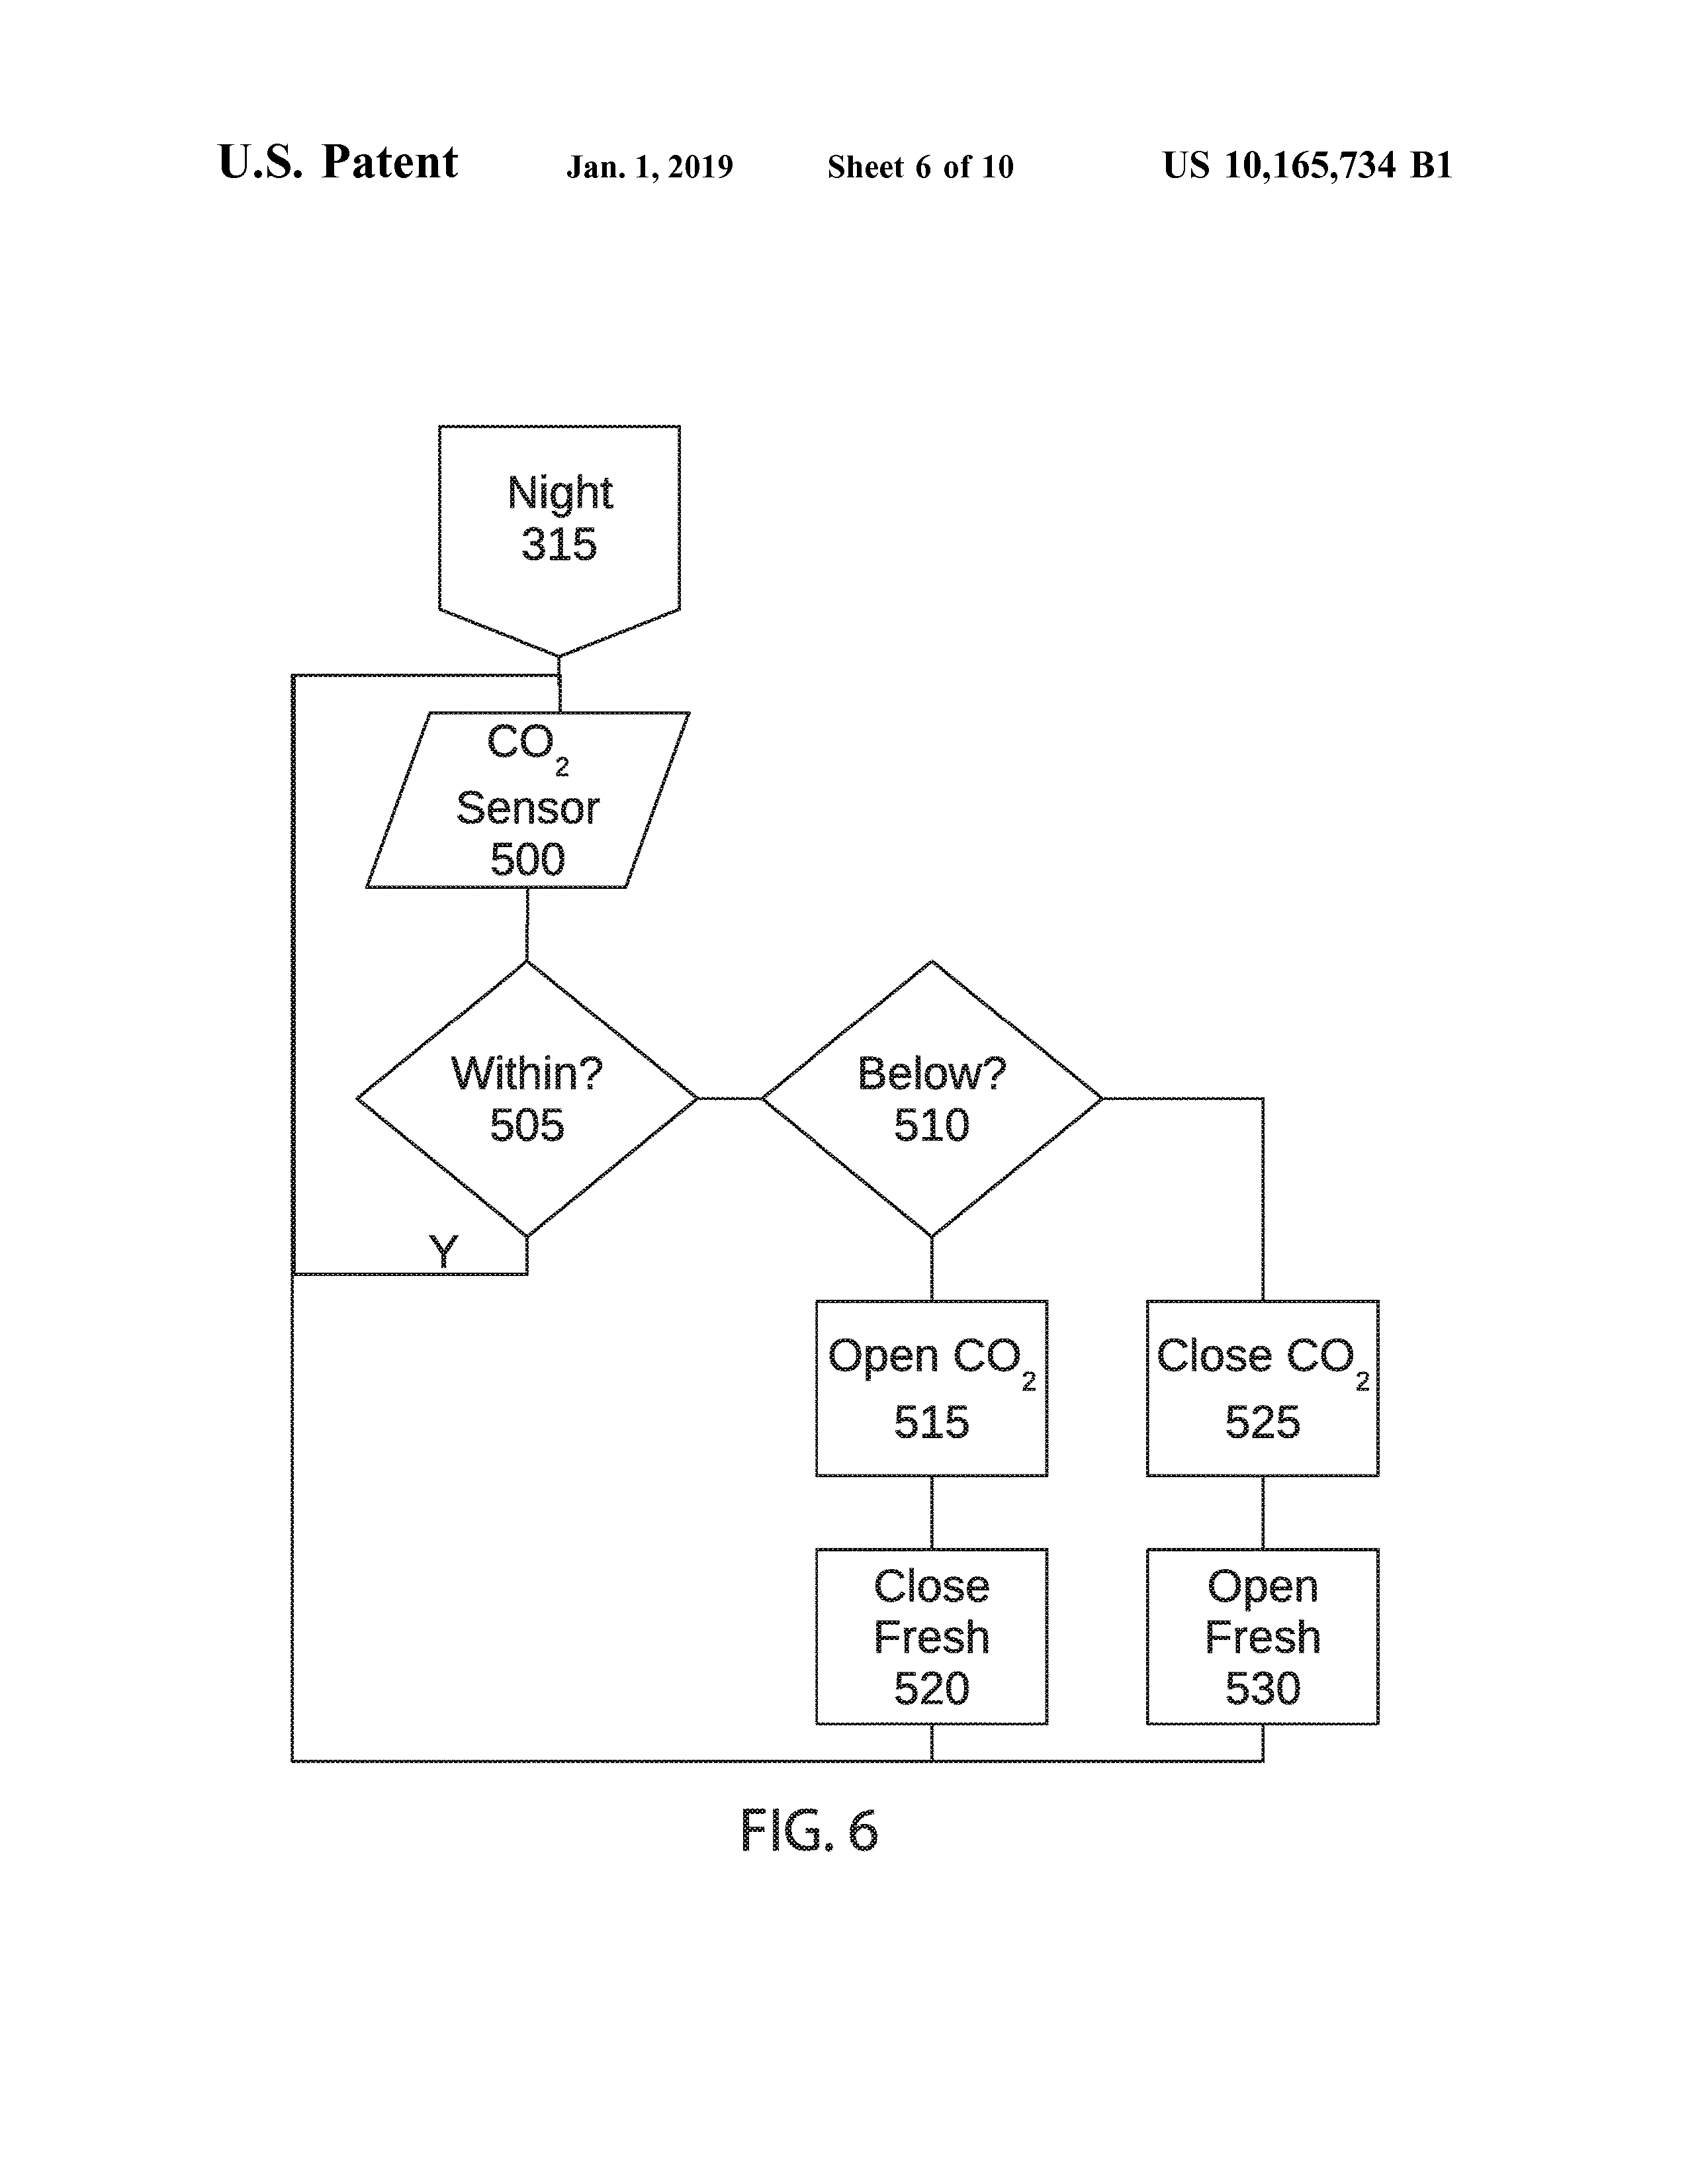patent image: (244, 380, 1421, 1870)
